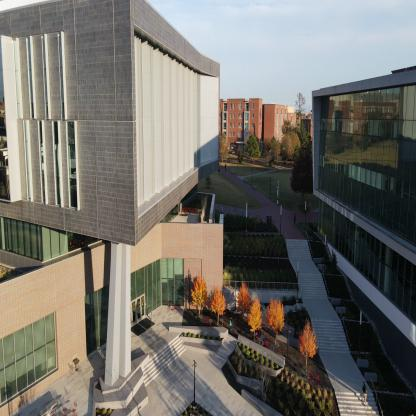Fitts- Woolard: (0, 1, 225, 415)
Hunt Library: (283, 37, 416, 350)
